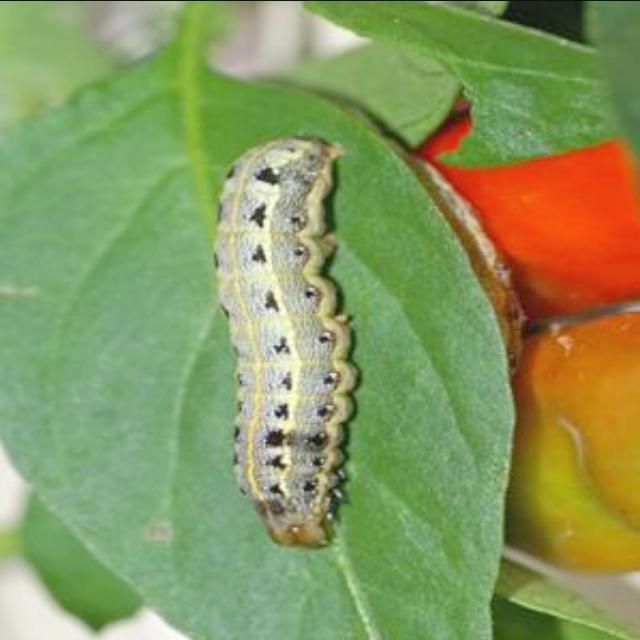Tobacco cutworm: (156, 107, 440, 567)
